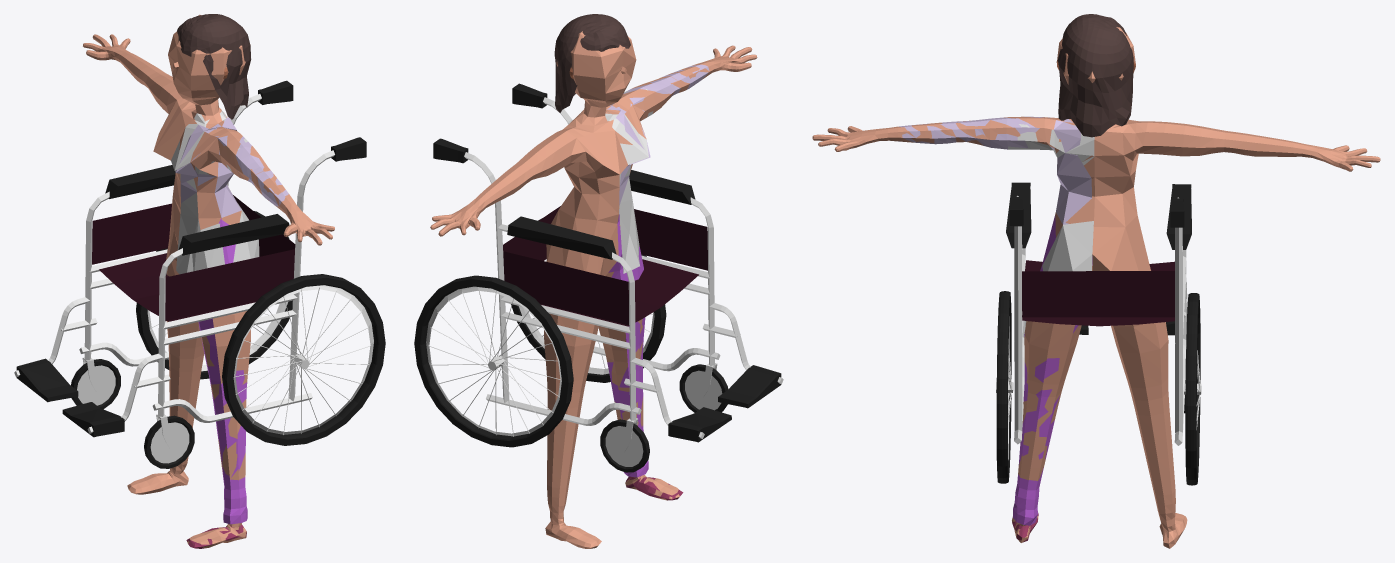
Rendered from WheelChairLady.glb.
The picture shows the model from 3 angles, left to right: view 1: azimuth 30°, elevation 25°; view 2: azimuth 150°, elevation 25°; view 3: azimuth 270°, elevation 25°; orthographic projection. The views are drawn at different scales.
Parts seen in each view (by area): view 1: woman.001, Torus.001, Plane.009, Plane.010, pants.001, tShirt.001, jacket.001, Plane.011, Cube.011, Circle.003, FrontWheel .001, FrontWheel (+18 smaller); view 2: woman.001, Torus, Plane.010, Plane.009, Plane.011, tShirt.001, Cube.010, Circle, pants.001, FrontWheel, jacket.001, FrontWheel .001 (+19 smaller); view 3: woman.001, Plane.012, jacket.001, tShirt.001, pants.001, Torus, Torus.001, Vert.013, Vert.003, Plane.011, Cube.011, Cube.010.
Boxes of the visible parts, x1,y1,x2,y2 form: woman.001: (83,14,334,548); Torus.001: (222,274,385,445); Plane.009: (165,249,294,321); Plane.010: (92,203,171,264); pants.001: (198,218,247,524); tShirt.001: (171,110,259,274); jacket.001: (175,117,288,217); Plane.011: (99,253,256,321); Cube.011: (178,214,289,255); Circle.003: (233,287,371,434); FrontWheel .001: (144,415,194,468); FrontWheel: (71,359,120,409); woman.001: (430,14,757,548); Torus: (414,275,573,447); Plane.010: (503,251,629,325); Plane.009: (634,209,707,270); Plane.011: (540,259,698,326); tShirt.001: (605,89,653,273); Cube.010: (507,216,616,259); Circle: (428,289,561,436); pants.001: (607,214,648,477); FrontWheel: (600,419,649,472); jacket.001: (607,64,709,213); FrontWheel .001: (679,364,728,412); woman.001: (812,14,1380,548); Plane.012: (1022,271,1174,317); jacket.001: (898,116,1091,224); tShirt.001: (1008,118,1094,271); pants.001: (1013,215,1092,525); Torus: (1185,293,1200,485); Torus.001: (996,291,1011,483); Vert.013: (1014,195,1022,430); Vert.003: (1175,197,1182,432); Plane.011: (1022,260,1174,326); Cube.011: (1006,182,1031,248); Cube.010: (1166,184,1191,249).
Bounding box in the file's own units: 0.8802 × 1.45 × 1.43.
